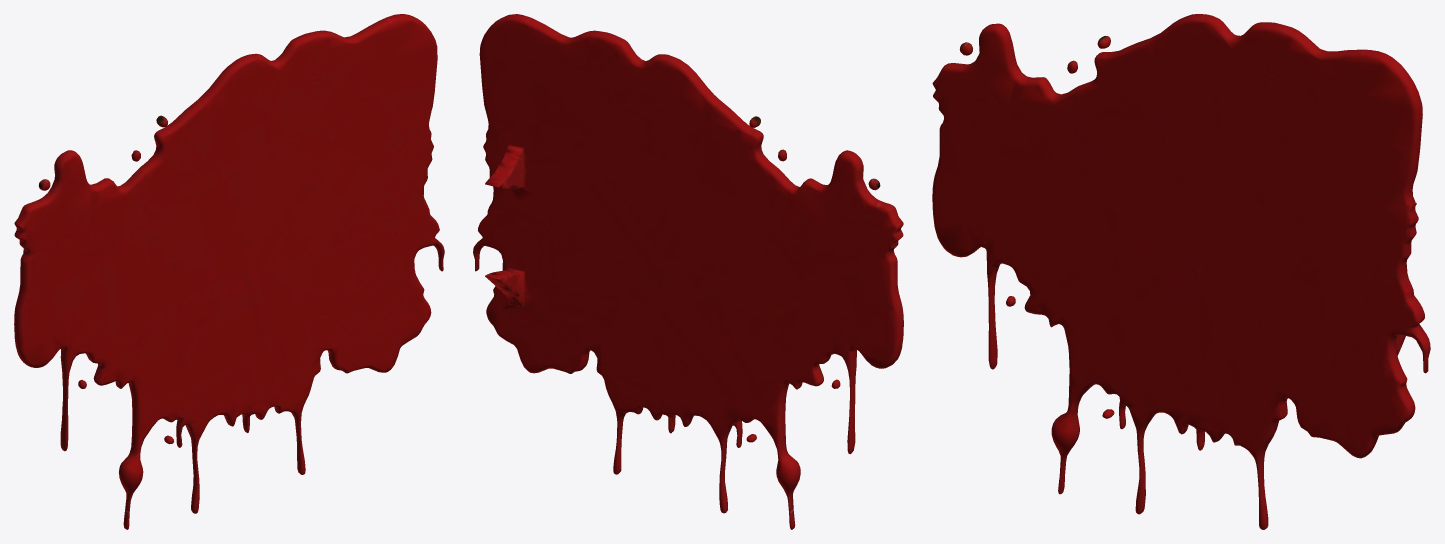
File: blood_decal_1.glb
3 views of the same model, side by side, from view 1: azimuth 30°, elevation 25°; view 2: azimuth 150°, elevation 25°; view 3: azimuth 330°, elevation 25° (orthographic). The views are drawn at different scales.
Parts seen in each view (by area): view 1: mesh_node; view 2: mesh_node; view 3: mesh_node.
Boxes of the visible parts, bbox=[...] form: mesh_node: bbox=[14, 14, 444, 529]; mesh_node: bbox=[473, 14, 903, 529]; mesh_node: bbox=[932, 14, 1430, 529].
Size of the model in its own units: 1.87 by 1.88 by 0.2691.
1 material, 1 textured.
